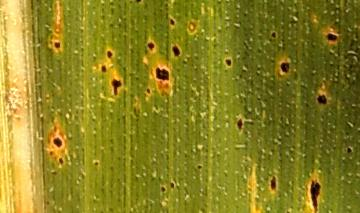tarspot: (308, 177, 323, 213), (153, 64, 171, 81), (266, 173, 280, 193), (108, 77, 123, 94), (51, 135, 66, 151), (323, 31, 340, 44), (169, 43, 183, 58), (315, 93, 330, 107), (222, 55, 235, 70), (277, 61, 293, 73), (235, 117, 246, 134), (166, 14, 177, 30), (55, 154, 67, 166), (104, 49, 115, 62), (145, 40, 157, 51), (99, 63, 109, 76), (268, 29, 279, 40), (195, 162, 206, 173), (168, 180, 177, 193), (52, 39, 62, 50), (344, 144, 354, 155), (158, 183, 167, 195)
